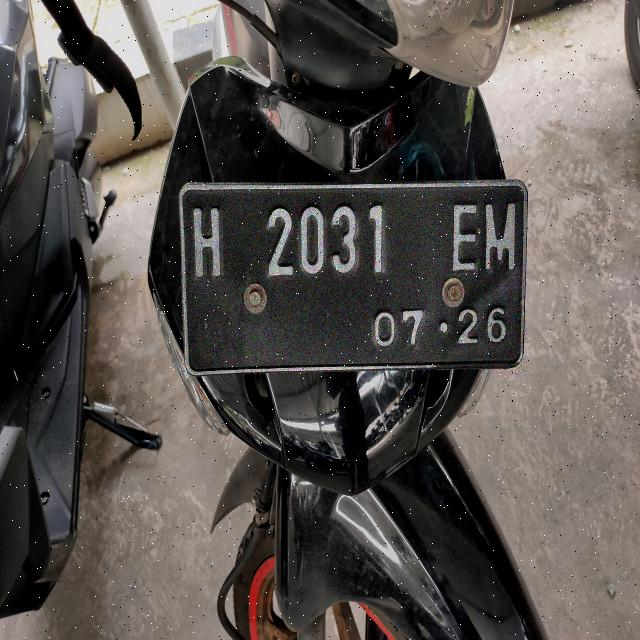plate: (180, 181, 526, 374)
